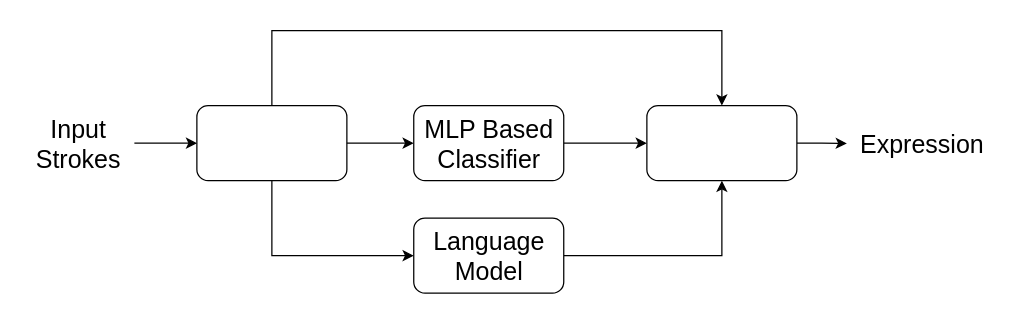
Some shapes in this 1018 by 315 pixel diagram are drawn without their labels. The shapes that lost their labels are listed below. From the top down, each one's centre as x and y in pixels, then its label:
At [271,142]: "Hypothesis Generator".
At [721,142]: "Decision Maker".
